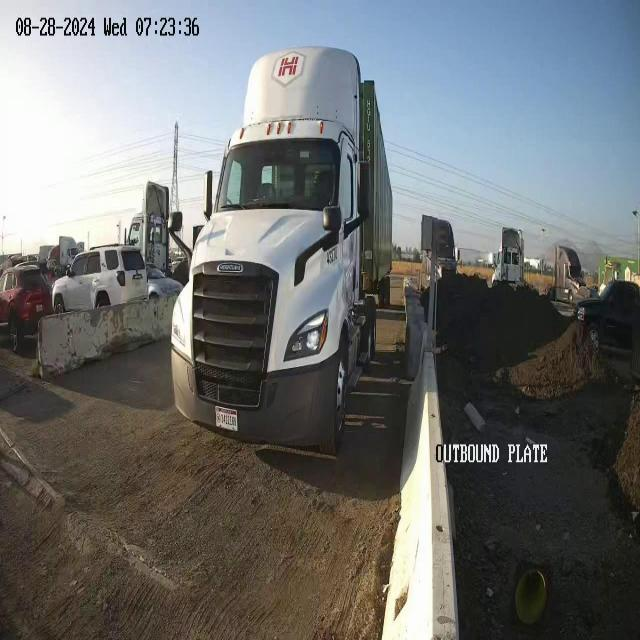TRUCK_OUT: (170, 44, 394, 457)
